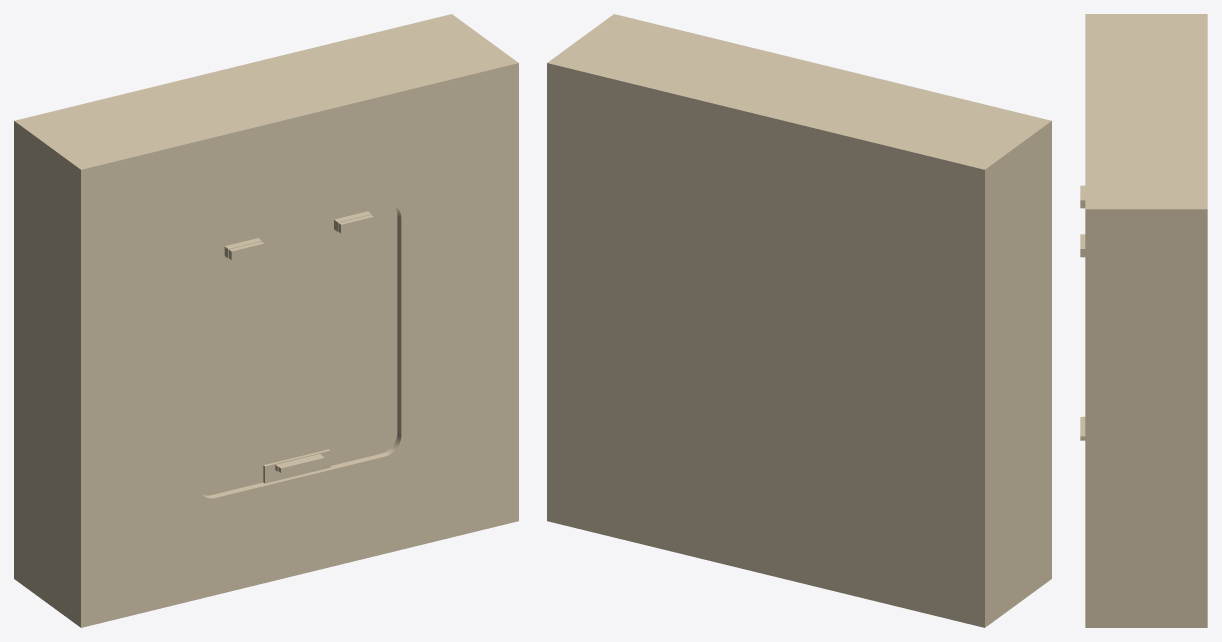
File: .HemoSure_Battery_Door_CAVITY.step.glb
3 renders of one model, left to right at view 1: azimuth 30°, elevation 25°; view 2: azimuth 150°, elevation 25°; view 3: azimuth 270°, elevation 25°, orthographic. The views are drawn at different scales.
Visible parts, largest first — view 1: o1; view 2: o1; view 3: o1.
Boxes of the visible parts, box(x1,y1,x2,y2) form: o1: box(14, 14, 518, 627); o1: box(547, 14, 1051, 627); o1: box(1080, 14, 1207, 627).
Size of the model in its own units: 0.0804 by 0.0804 by 0.0222.
